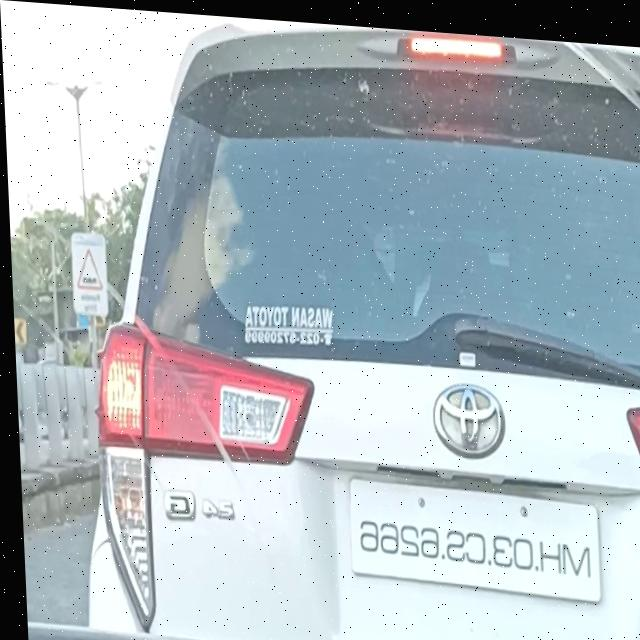plate: (343, 471, 598, 595)
